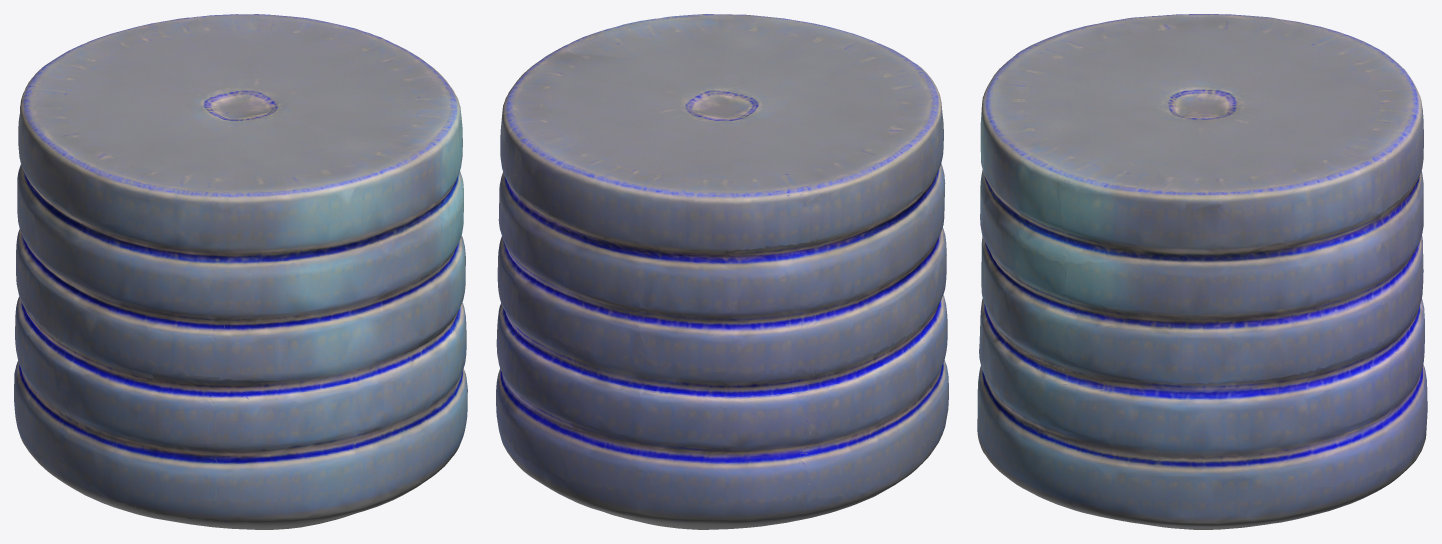
The model's file is database_l.glb.
3 renders of one model, left to right at view 1: azimuth 30°, elevation 25°; view 2: azimuth 150°, elevation 25°; view 3: azimuth 270°, elevation 25°, orthographic.
Parts seen in each view (by area): view 1: Object_4; view 2: Object_4; view 3: Object_4.
Boxes of the visible parts, x1=… form: Object_4: x1=14, y1=14, x2=467, y2=529; Object_4: x1=496, y1=14, x2=948, y2=529; Object_4: x1=977, y1=14, x2=1427, y2=529.
Size of the model in its own units: 0.7624 by 0.6962 by 0.772.
1 material, 1 textured.
